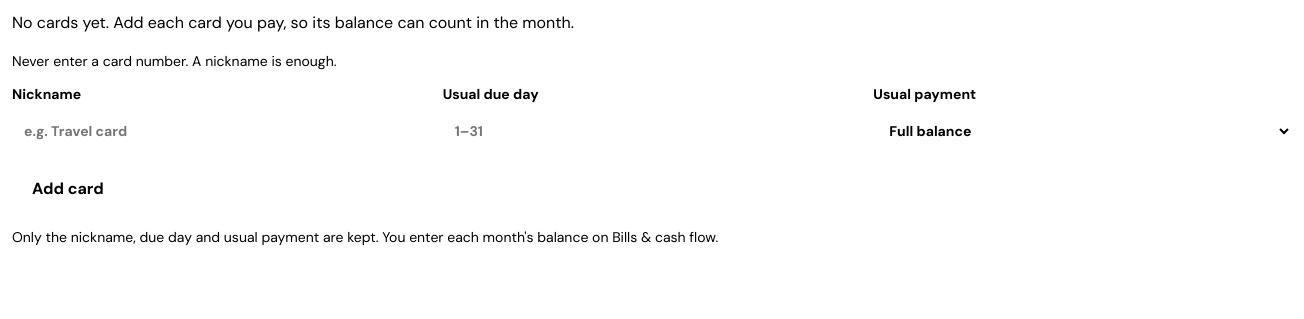
Test: P2-07 setup step 6: credit cards › requires a nickname
The image size is (1304, 319).
Click the button "Add card".
click(68, 189)  # box [12, 165, 124, 213]
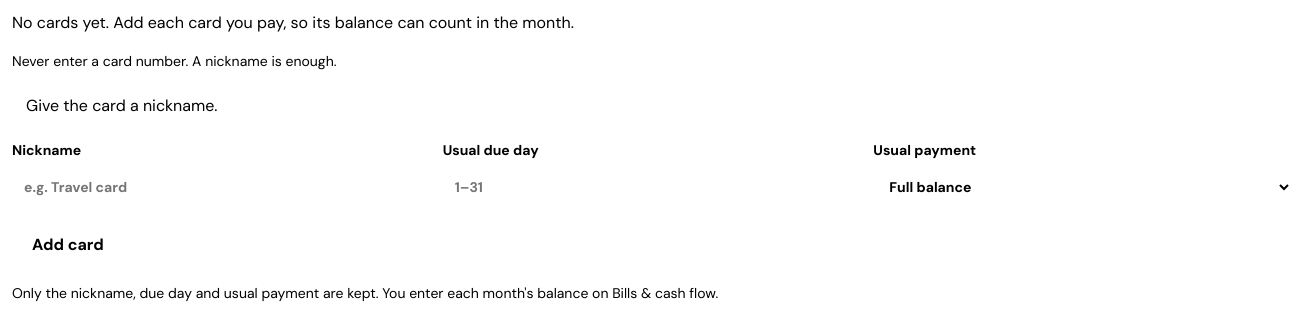
expect the message reads "Give the card a nickname.": met, box [26, 95, 218, 116]
